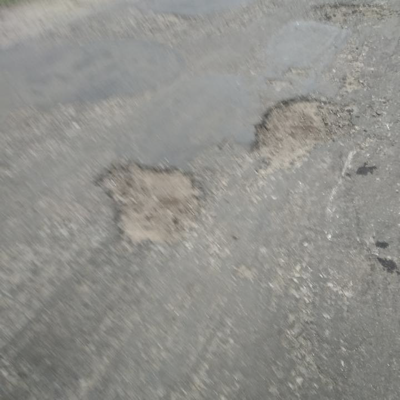pothole: (89, 157, 211, 250), (248, 94, 346, 178), (307, 0, 392, 27)
